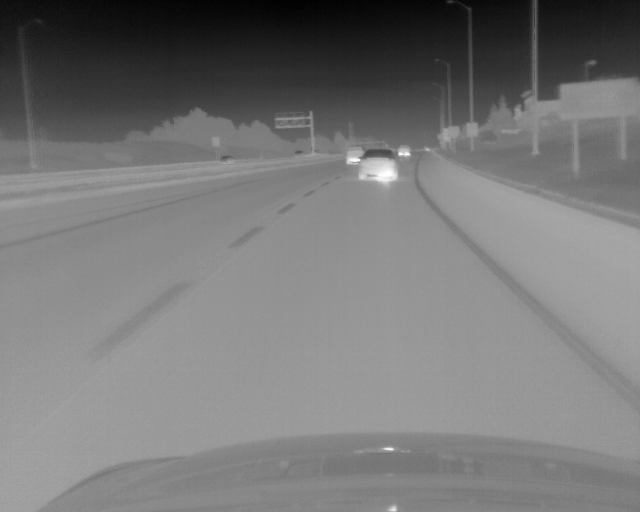car: (358, 148, 400, 182), (345, 145, 364, 164), (398, 144, 412, 155), (219, 154, 235, 161), (294, 150, 303, 156)
